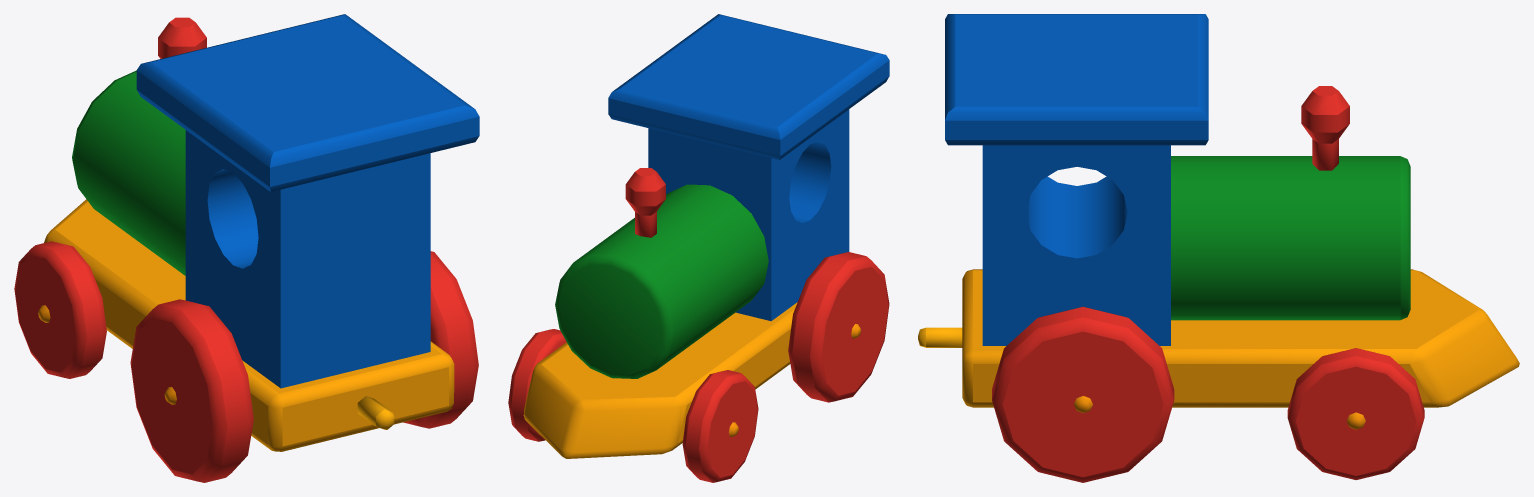
The model's file is Locomotive.fbx.
3 renders of one model, left to right at view 1: azimuth 30°, elevation 25°; view 2: azimuth 150°, elevation 25°; view 3: azimuth 270°, elevation 25°, orthographic. The views are drawn at different scales.
Visible parts, largest first — view 1: Locomative, TireLeftBack, TireLeftFront, TireRightBack; view 2: Locomative, TireLeftBack, TireLeftFront, TireRighFront; view 3: Locomative, TireRightBack, TireRighFront.
Boxes of the visible parts, bbox=[...] form: Locomative: bbox=[44, 14, 479, 451]; TireLeftBack: bbox=[130, 299, 253, 482]; TireLeftFront: bbox=[14, 241, 106, 378]; TireRightBack: bbox=[403, 251, 478, 428]; Locomative: bbox=[523, 14, 889, 458]; TireLeftBack: bbox=[788, 252, 889, 402]; TireLeftFront: bbox=[682, 370, 758, 482]; TireRighFront: bbox=[508, 329, 566, 441]; Locomative: bbox=[918, 14, 1519, 407]; TireRightBack: bbox=[992, 306, 1174, 482]; TireRighFront: bbox=[1287, 348, 1424, 479].
Bounding box in the file's own units: 14.85 × 19.03 × 28.48.
